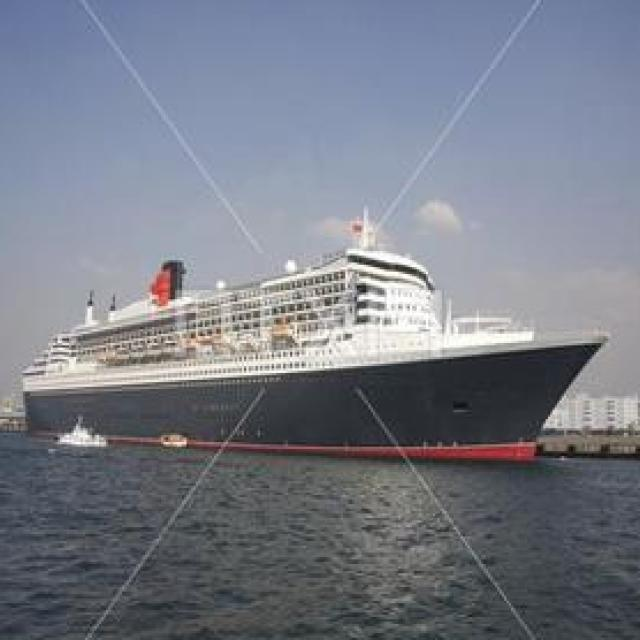houseboat: (48, 409, 112, 455)
passenger ship: (26, 241, 622, 444)
